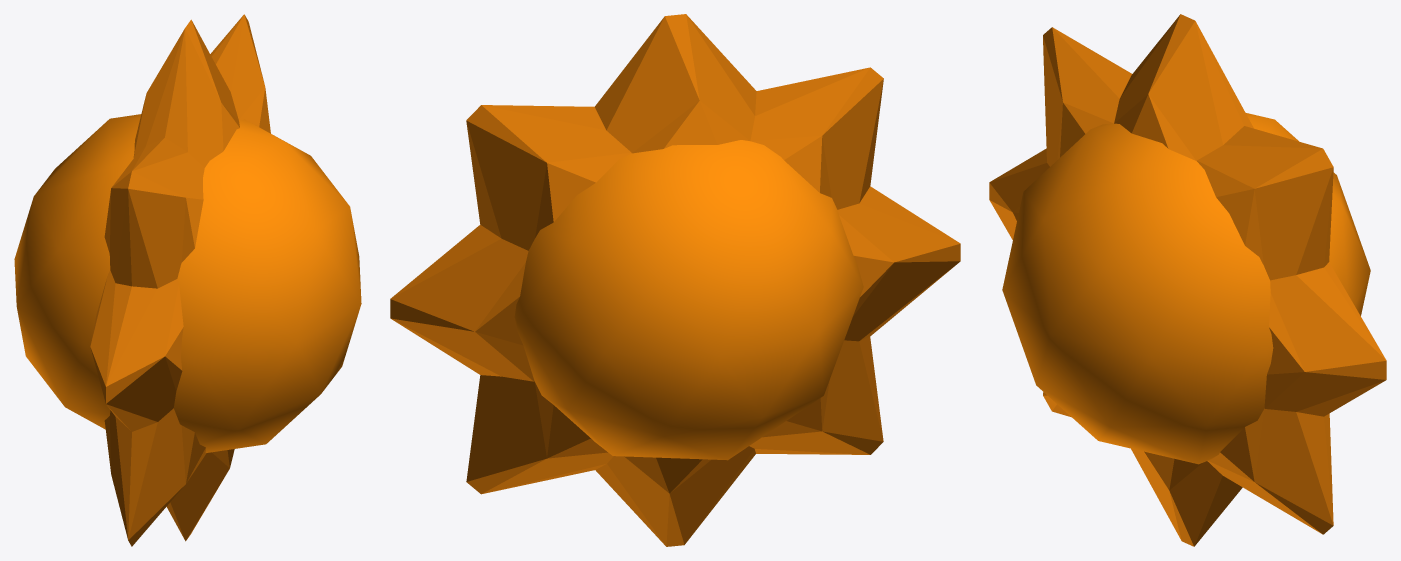
Rendered from sun.glb.
3 views of the same model, side by side, from view 1: azimuth 30°, elevation 25°; view 2: azimuth 150°, elevation 25°; view 3: azimuth 270°, elevation 25° (orthographic). The views are drawn at different scales.
Visible parts, largest first — view 1: Sun; view 2: Sun; view 3: Sun.
Part boxes in pixels (left/top/right/bottom): Sun: left=14, top=14, right=361, bottom=546; Sun: left=390, top=14, right=960, bottom=546; Sun: left=989, top=14, right=1386, bottom=546.
Bounding box in the file's own units: 4.54 × 6.22 × 4.25.
